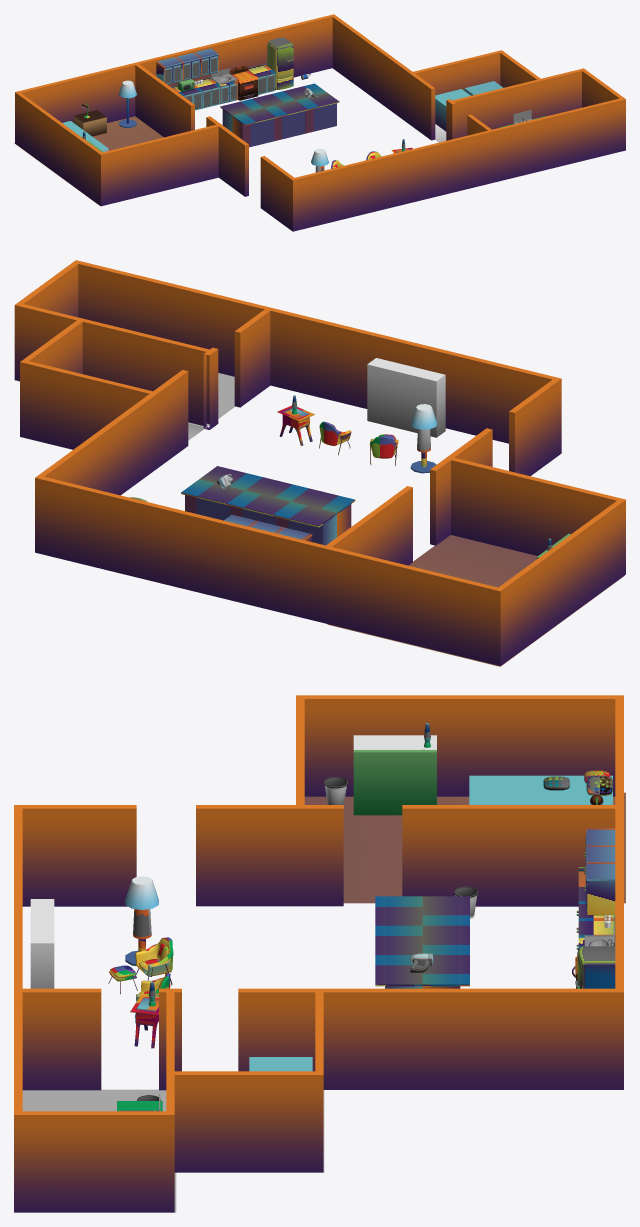
File: Floorplan.FBX
3 views of the same model, one above another, from view 1: azimuth 30°, elevation 25°; view 2: azimuth 150°, elevation 25°; view 3: azimuth 270°, elevation 25° (orthographic). The views are drawn at different scales.
Parts seen in each view (by area): view 1: Walls, Bedroom, counter island003, fridge, counter island004, counter island005, stove, Night Stand, counter island002, Washer, counter upper002, counter base (+10 smaller); view 2: Walls, TV, Bedroom, counter island002, counter island, counter island001, counter island003, counter island004, Lamp (Bedroom)001, Box001, counter island005, Bathroom (+2 smaller); view 3: Walls, Dresser, Bedroom, Bed, Bathroom, TV, fridge, counter upper, counter island, counter island005, counter island002, counter island003 (+6 smaller).
Boxes of the visible parts, <box> form: Walls: <box>15,14,625,231</box>; Bedroom: <box>14,116,163,205</box>; counter island003: <box>230,108,276,147</box>; fridge: <box>267,37,293,89</box>; counter island004: <box>264,100,307,141</box>; counter island005: <box>296,92,339,133</box>; stove: <box>229,66,258,100</box>; Night Stand: <box>73,110,106,136</box>; counter island002: <box>220,99,263,132</box>; Washer: <box>435,89,470,131</box>; counter upper002: <box>156,57,181,84</box>; counter base: <box>248,63,275,94</box>; Walls: <box>14,260,625,665</box>; TV: <box>367,358,445,437</box>; Bedroom: <box>327,535,624,666</box>; counter island002: <box>273,501,340,545</box>; counter island: <box>181,479,244,520</box>; counter island001: <box>227,490,290,525</box>; counter island003: <box>291,488,355,536</box>; counter island004: <box>245,477,308,501</box>; Lamp (Bedroom)001: <box>410,404,437,473</box>; Box001: <box>277,405,314,445</box>; counter island005: <box>199,466,262,490</box>; Bathroom: <box>14,373,235,427</box>; Walls: <box>14,695,623,1212</box>; Dresser: <box>353,735,436,815</box>; Bedroom: <box>304,792,625,903</box>; Bed: <box>469,775,612,804</box>; Bathroom: <box>22,1089,176,1212</box>; TV: <box>30,899,54,988</box>; fridge: <box>575,946,615,988</box>; counter upper: <box>584,862,615,914</box>; counter island: <box>414,955,469,988</box>; counter island005: <box>375,955,430,988</box>; counter island002: <box>422,896,469,925</box>; counter island003: <box>375,896,422,925</box>.
Size of the model in its own units: 921 by 100 by 567.
Materials: 2 (1 with a texture image).
